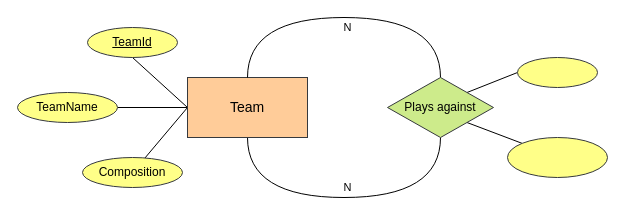
This 625x215 diagram has some shape labels left out. The shapes that lost their labels are listed below. From the top down, each one's centre as x and y in pixels, then its label:
[557,72]: GameId
[557,157]: Arbitrator Id
